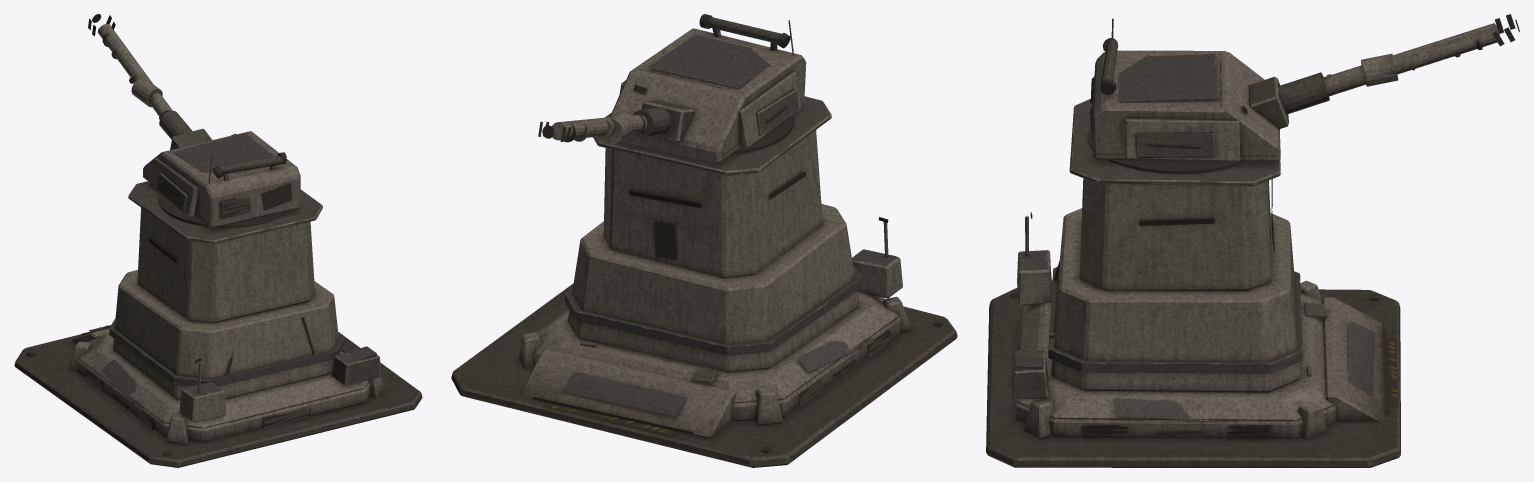
Rendered from ord_edict_wreck.fbx.
3 renders of one model, left to right at view 1: azimuth 30°, elevation 25°; view 2: azimuth 150°, elevation 25°; view 3: azimuth 270°, elevation 25°, orthographic. The views are drawn at different scales.
Visible parts, largest first — view 1: base_bar, turret_bar; view 2: base_bar, turret_bar; view 3: base_bar, turret_bar.
Part boxes in pixels (x1,y1,x2,y2): base_bar: [14, 181, 422, 467]; turret_bar: [88, 14, 300, 228]; base_bar: [451, 96, 957, 467]; turret_bar: [538, 14, 806, 163]; base_bar: [986, 99, 1400, 467]; turret_bar: [1089, 14, 1519, 161].
Bounding box in the file's own units: 2342 × 2487 × 3030.
Materials: 2 (2 with a texture image).
